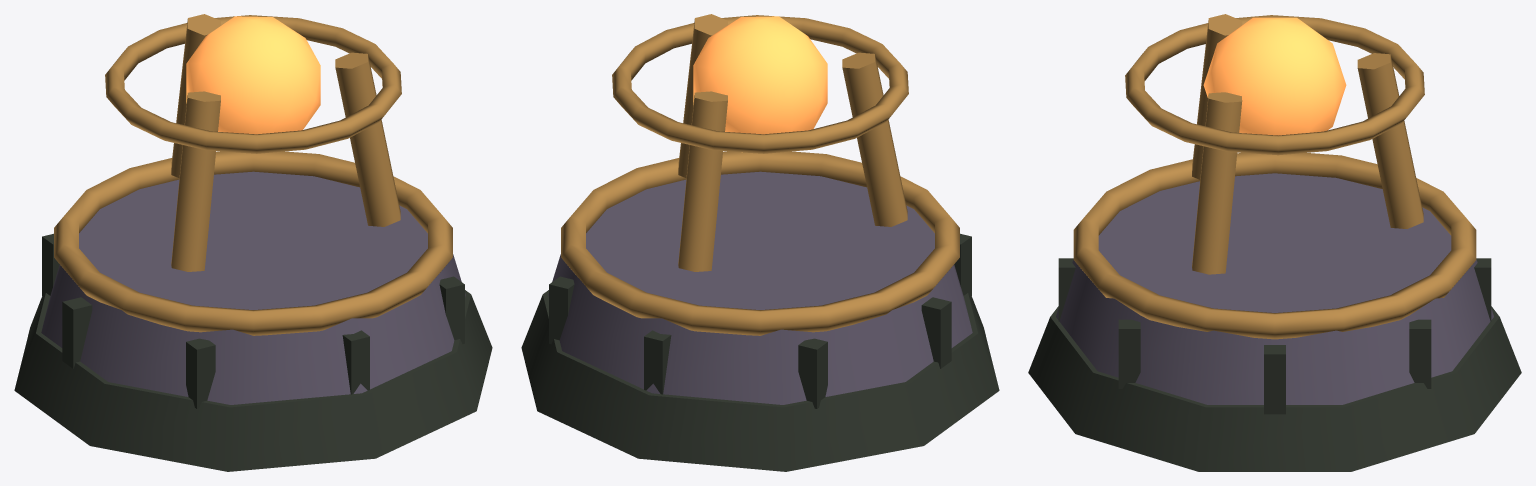
Rendered from tower_meteor.glb.
The picture shows the model from 3 angles, left to right: view 1: azimuth 30°, elevation 25°; view 2: azimuth 150°, elevation 25°; view 3: azimuth 270°, elevation 25°; orthographic projection.
Parts seen in each view (by area): view 1: stone_1, foot_0, rim_2, meteor_14, armillary_15, claw_13, claw_12, claw_11, mortar_6, mortar_7, mortar_5, mortar_4 (+1 smaller); view 2: stone_1, foot_0, rim_2, meteor_14, armillary_15, claw_11, claw_13, mortar_8, claw_12, mortar_7, mortar_9, mortar_10 (+1 smaller); view 3: stone_1, foot_0, rim_2, meteor_14, armillary_15, claw_12, claw_11, claw_13, mortar_3, mortar_4, mortar_10, mortar_5 (+1 smaller).
Boxes of the visible parts, left/top/right/bottom form: stone_1: left=41, top=171, right=465, bottom=404; foot_0: left=14, top=290, right=492, bottom=471; rim_2: left=54, top=151, right=452, bottom=335; meteor_14: left=186, top=16, right=320, bottom=134; armillary_15: left=105, top=15, right=401, bottom=153; claw_13: left=171, top=91, right=220, bottom=271; claw_12: left=335, top=52, right=400, bottom=226; claw_11: left=171, top=14, right=220, bottom=178; mortar_6: left=186, top=338, right=215, bottom=408; mortar_7: left=62, top=297, right=92, bottom=368; mortar_5: left=342, top=330, right=369, bottom=394; mortar_4: left=439, top=276, right=464, bottom=344; stone_1: left=548, top=171, right=972, bottom=404; foot_0: left=521, top=290, right=999, bottom=471; rim_2: left=561, top=151, right=959, bottom=335; meteor_14: left=693, top=16, right=827, bottom=152; armillary_15: left=612, top=15, right=908, bottom=153; claw_11: left=678, top=91, right=727, bottom=271; claw_13: left=842, top=52, right=907, bottom=226; mortar_8: left=798, top=338, right=827, bottom=408; claw_12: left=678, top=14, right=727, bottom=178; mortar_7: left=921, top=297, right=951, bottom=368; mortar_9: left=644, top=330, right=671, bottom=394; mortar_10: left=549, top=276, right=574, bottom=344; stone_1: left=1056, top=173, right=1493, bottom=404; foot_0: left=1028, top=306, right=1521, bottom=471; rim_2: left=1073, top=153, right=1476, bottom=339; meteor_14: left=1203, top=17, right=1346, bottom=135; armillary_15: left=1125, top=15, right=1424, bottom=155; claw_12: left=1192, top=92, right=1242, bottom=274; claw_11: left=1357, top=53, right=1423, bottom=228; claw_13: left=1192, top=14, right=1242, bottom=179; mortar_3: left=1264, top=345, right=1285, bottom=414; mortar_4: left=1118, top=319, right=1140, bottom=388; mortar_10: left=1409, top=319, right=1431, bottom=388; mortar_5: left=1058, top=258, right=1075, bottom=321.
Bounding box in the file's own units: 0.5326 × 0.441 × 0.56.
